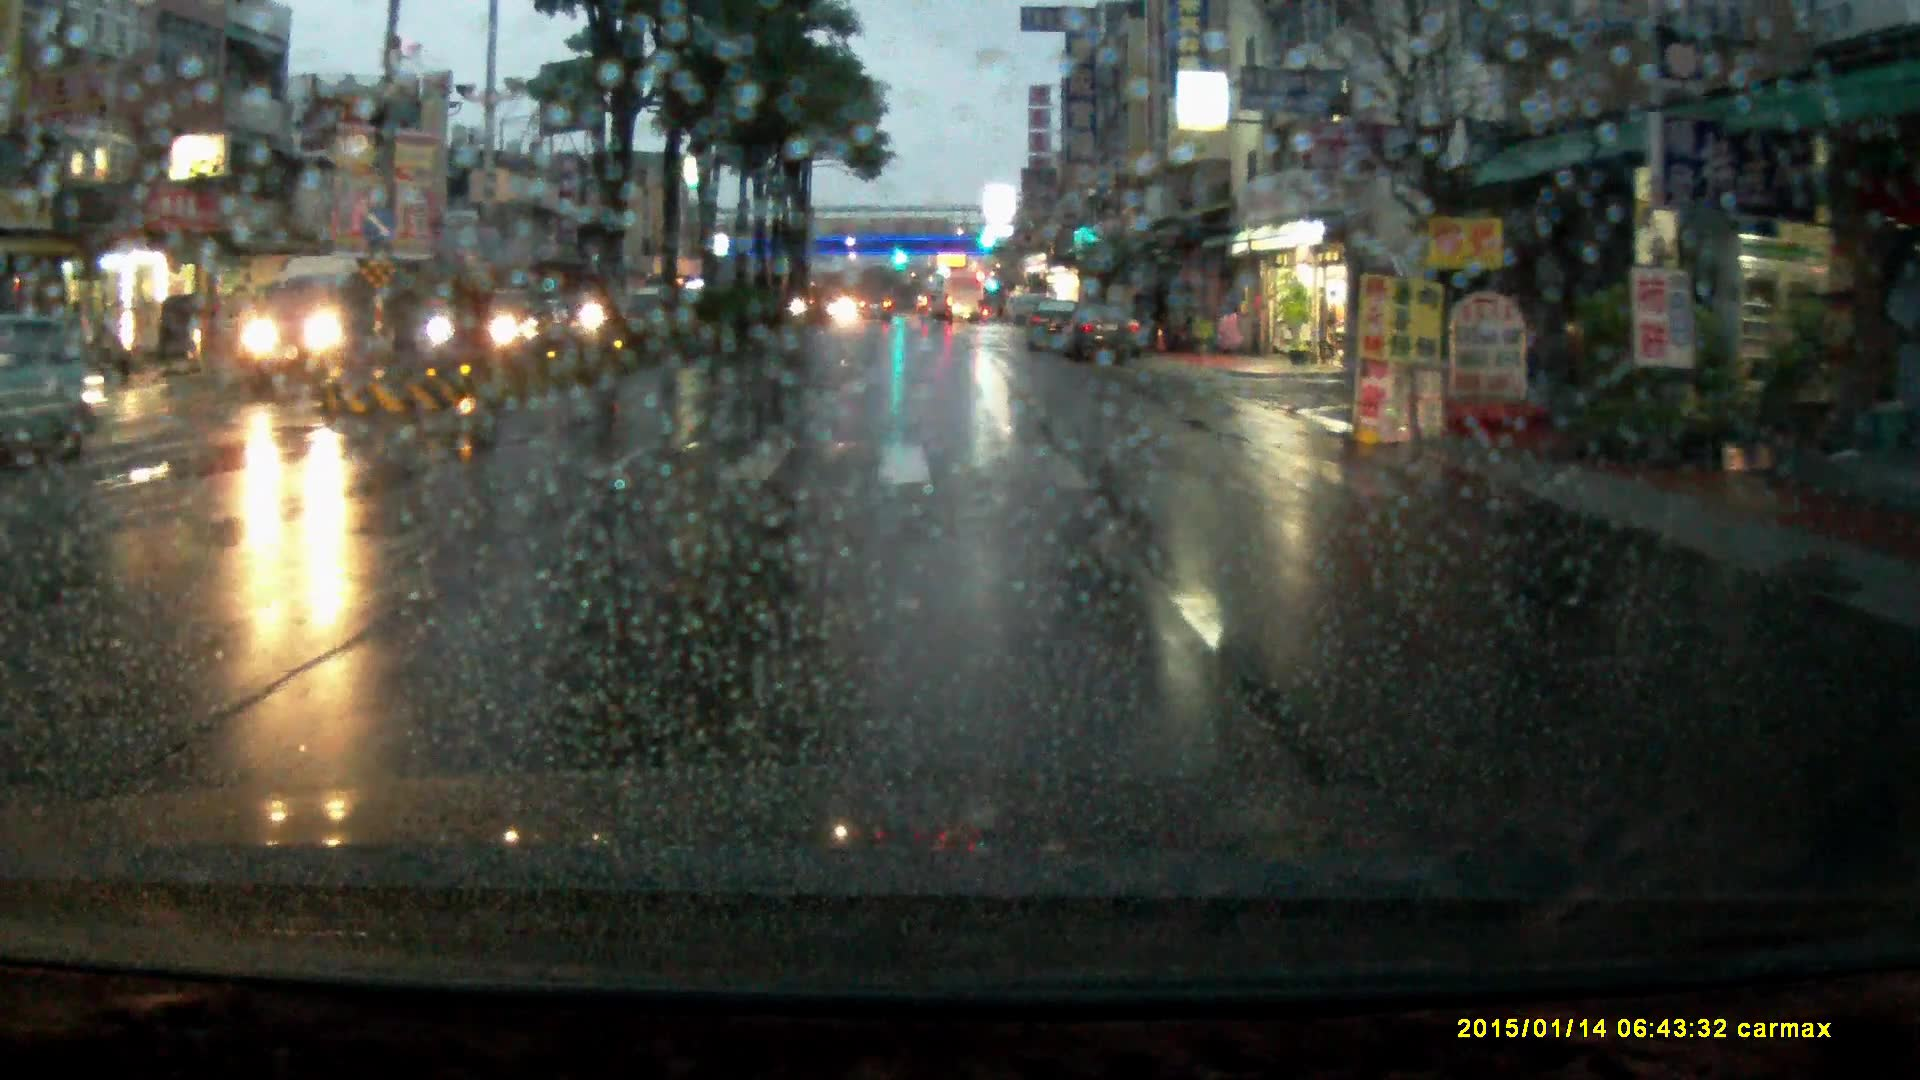vehicle: (243, 258, 436, 393), (426, 286, 554, 357), (1059, 301, 1146, 365), (1025, 298, 1081, 353), (944, 273, 986, 326), (923, 291, 956, 328), (858, 294, 895, 324)
